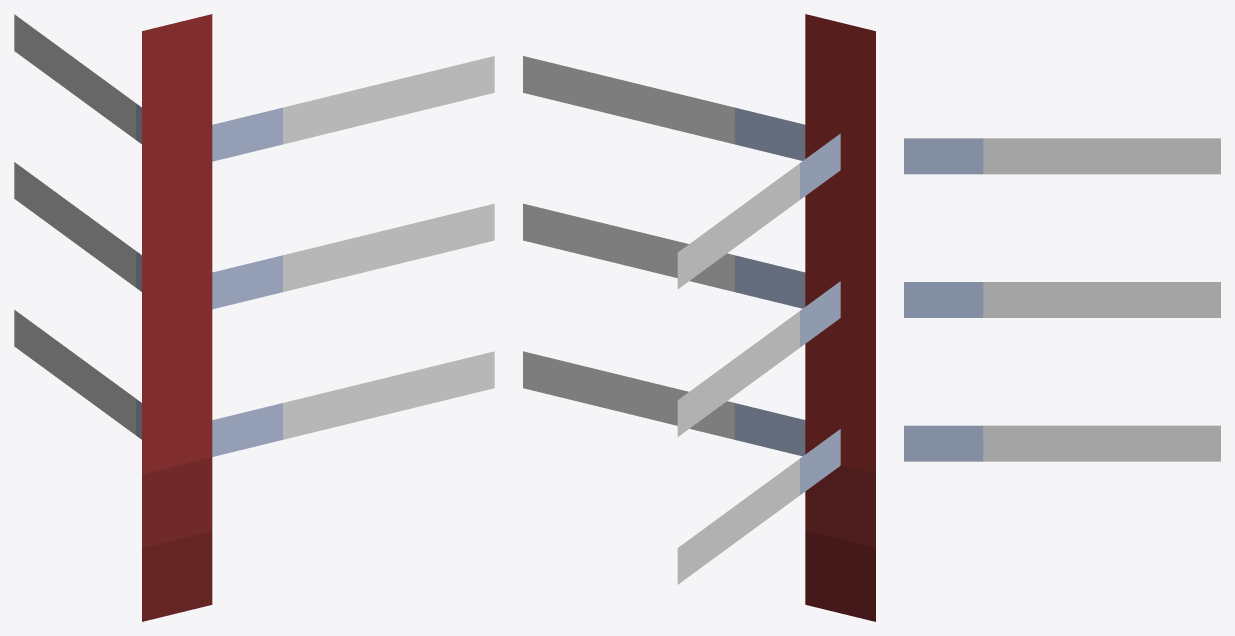
Rendered from Boxing Ring Pole.fbx.
3 views of the same model, side by side, from view 1: azimuth 30°, elevation 25°; view 2: azimuth 150°, elevation 25°; view 3: azimuth 270°, elevation 25° (orthographic). The views are drawn at different scales.
Visible parts, largest first — view 1: cube, cube_4, cube_5, cube_6, cube_2, cube_1, cube_3; view 2: cube, cube_6, cube_4, cube_5, cube_3, cube_2, cube_1; view 3: cube_1, cube_3, cube_2.
Part boxes in pixels (bbox=[...]): cube: bbox=[142, 14, 212, 621]; cube_4: bbox=[212, 351, 494, 456]; cube_5: bbox=[212, 203, 494, 309]; cube_6: bbox=[212, 56, 494, 161]; cube_2: bbox=[14, 162, 141, 291]; cube_1: bbox=[14, 14, 141, 143]; cube_3: bbox=[14, 310, 141, 439]; cube: bbox=[805, 14, 875, 621]; cube_6: bbox=[523, 56, 805, 160]; cube_4: bbox=[523, 351, 805, 456]; cube_5: bbox=[523, 203, 805, 308]; cube_3: bbox=[677, 429, 840, 584]; cube_2: bbox=[677, 281, 840, 436]; cube_1: bbox=[677, 133, 840, 288]; cube_1: bbox=[904, 138, 1220, 174]; cube_3: bbox=[904, 425, 1220, 461]; cube_2: bbox=[904, 282, 1220, 317].
Bounding box in the file's own units: 62.5 × 100 × 50.
1 material, 1 textured.
